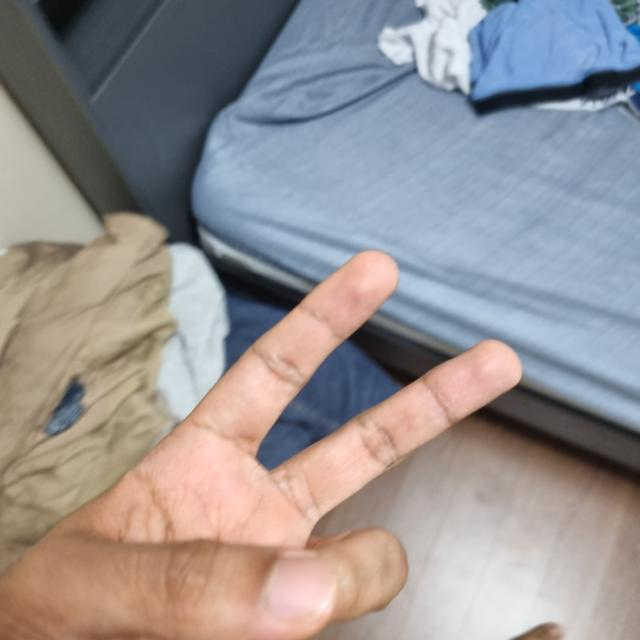Scissors: (3, 255, 514, 638)
